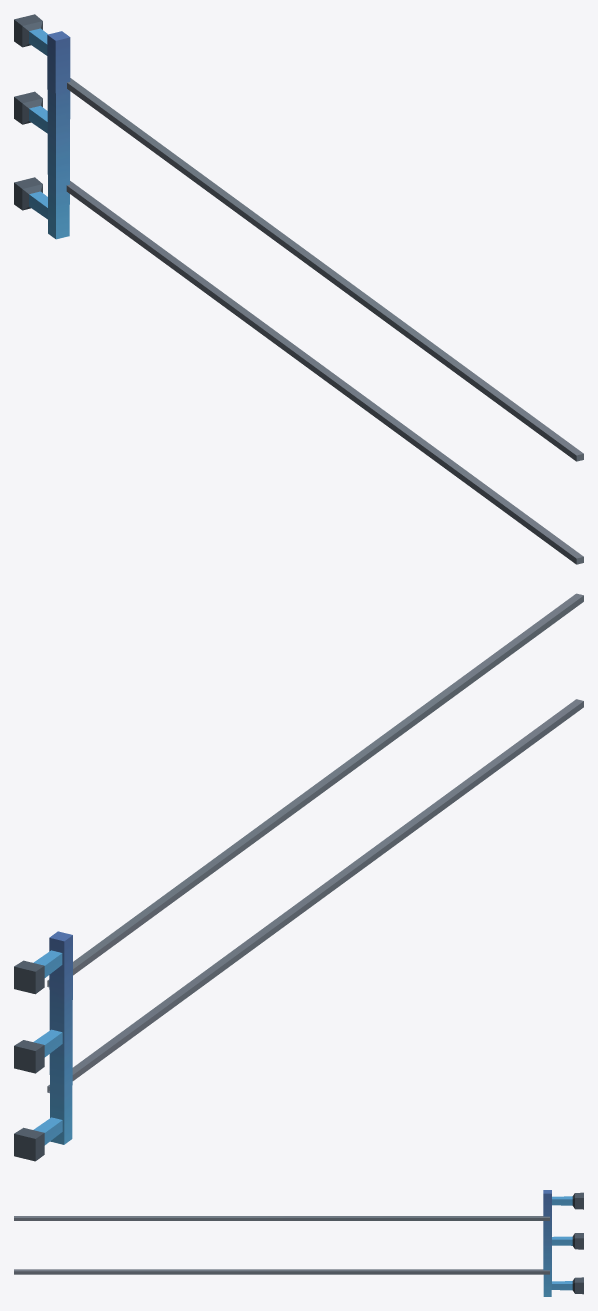
The model's file is SignHolder_7.fbx.
3 renders of one model, top to bottom at view 1: azimuth 30°, elevation 25°; view 2: azimuth 150°, elevation 25°; view 3: azimuth 270°, elevation 25°, orthographic. The views are drawn at different scales.
Visible parts, largest first — view 1: SignHolder_7; view 2: SignHolder_7; view 3: SignHolder_7.
Part boxes in pixels (x1,y1,x2,y2): SignHolder_7: (14,14,583,564); SignHolder_7: (14,593,583,1161); SignHolder_7: (14,1190,583,1296).
Bounding box in the file's own units: 30.16 × 267 × 1337.
